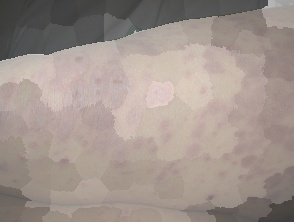SJS-TEN: (0, 2, 294, 202)
